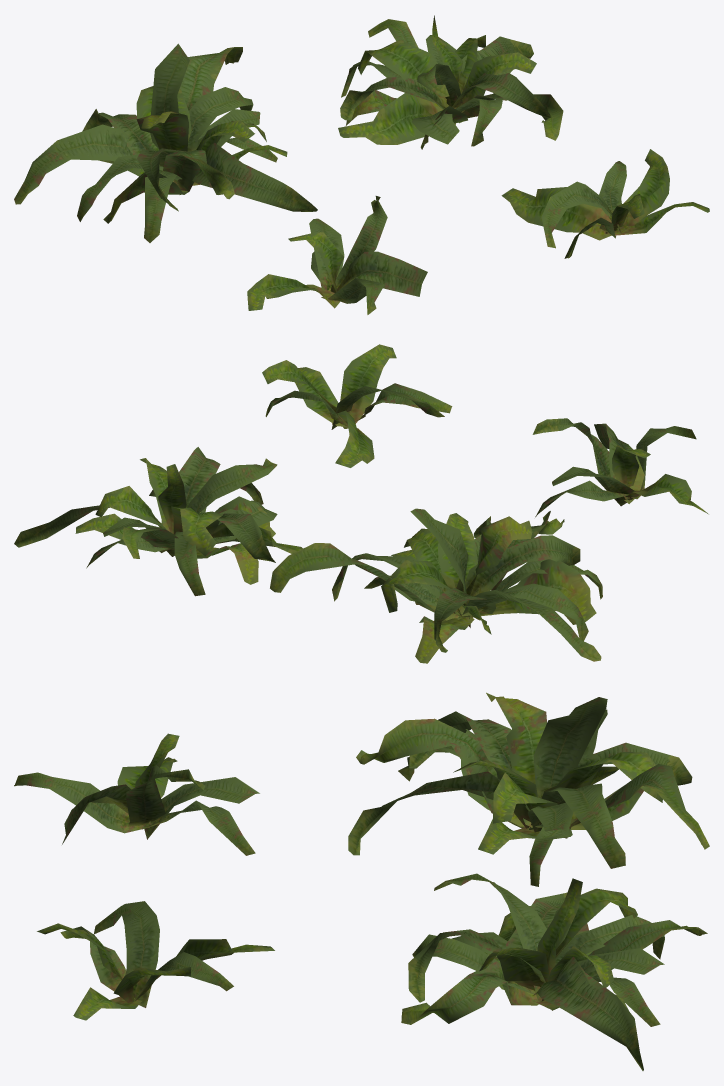
File: fern_02.glb
3 renders of one model, top to bottom at view 1: azimuth 30°, elevation 25°; view 2: azimuth 150°, elevation 25°; view 3: azimuth 270°, elevation 25°, orthographic. The views are drawn at different scales.
Parts seen in each view (by area): view 1: fern_02_b; view 2: fern_02_b; view 3: fern_02_b.
Boxes of the visible parts, x1,y1,x2,y2 form: fern_02_b: (14,15,709,314); fern_02_b: (14,344,708,663); fern_02_b: (14,692,709,1070).
Bounding box in the file's own units: 1.97 × 0.4276 × 1.72.
Materials: 1 (1 with a texture image).
